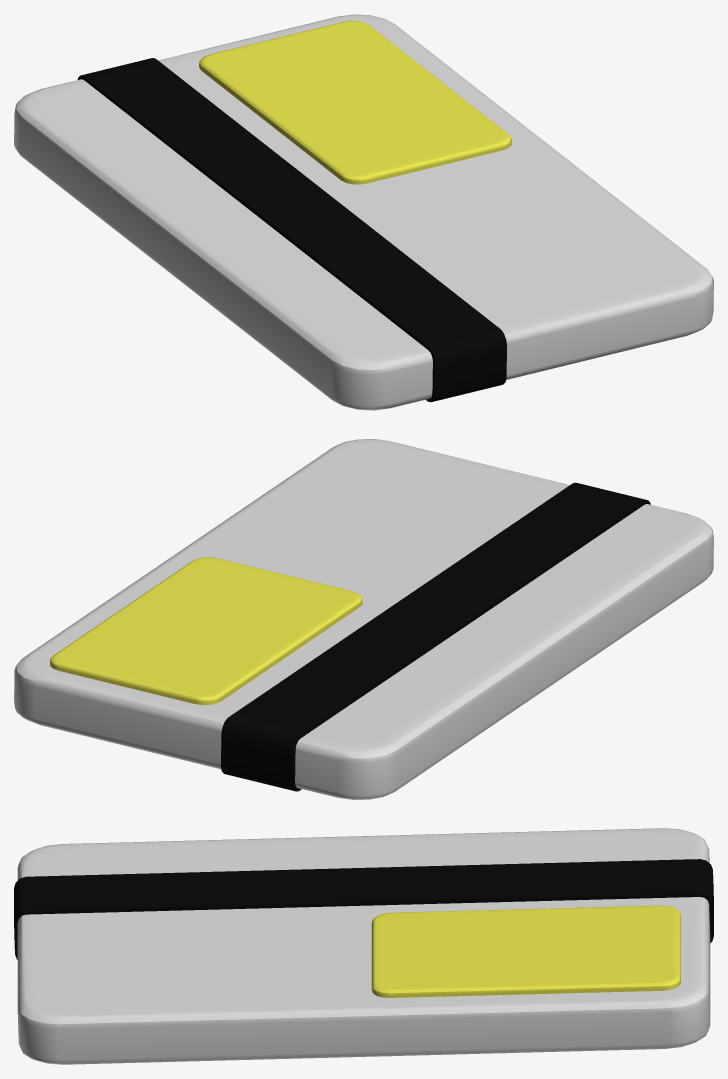
Rendered from TarjetaDeAccesoAmarillo.fbx.
The picture shows the model from 3 angles, top to bottom: view 1: azimuth 30°, elevation 25°; view 2: azimuth 150°, elevation 25°; view 3: azimuth 270°, elevation 25°; orthographic projection. The views are drawn at different scales.
Visible parts, largest first — view 1: BaseTarjeta4, Identificador2; view 2: BaseTarjeta4, Identificador2; view 3: BaseTarjeta4, Identificador2.
Part boxes in pixels (box(x1,y1,x2,y2)): BaseTarjeta4: box(14, 14, 713, 410); Identificador2: box(199, 20, 511, 184); BaseTarjeta4: box(14, 439, 713, 799); Identificador2: box(50, 557, 362, 704); BaseTarjeta4: box(14, 828, 713, 1064); Identificador2: box(371, 905, 680, 997).
Bounding box in the file's own units: 1.49 × 0.2855 × 2.46.
